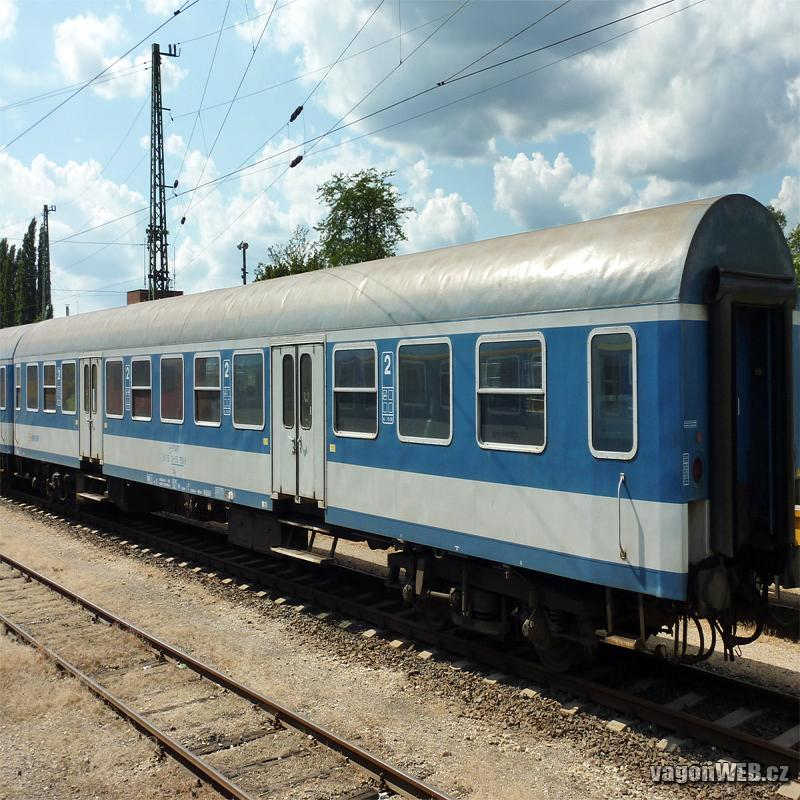train: (14, 193, 800, 744)
